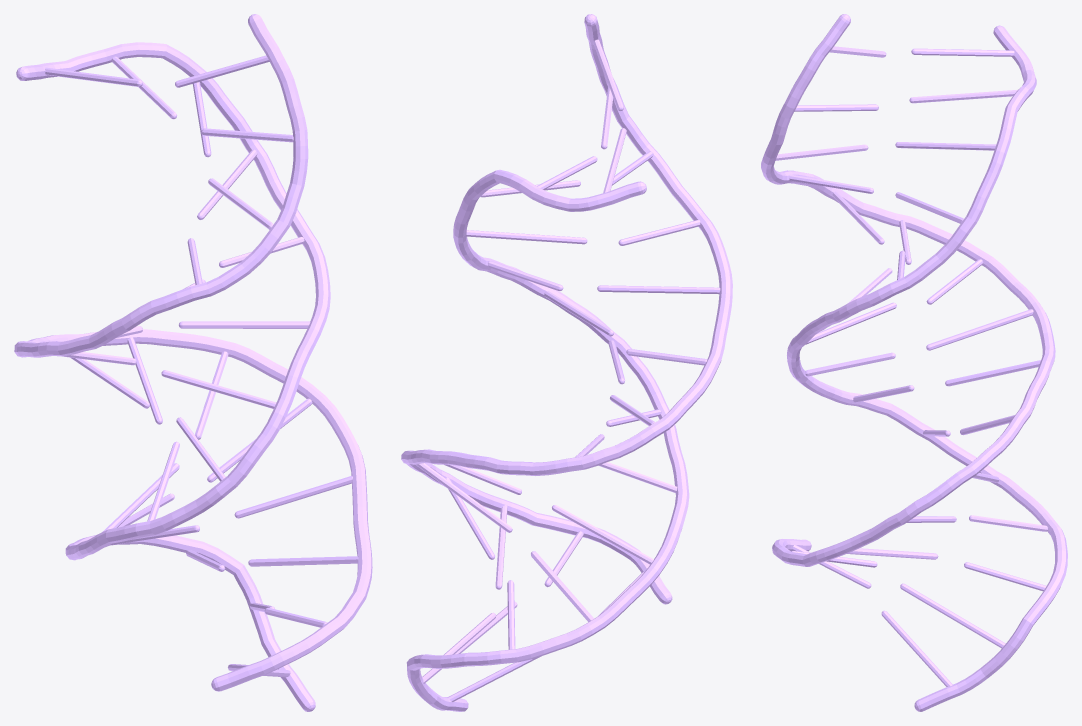
Rendered from dna.glb.
3 views of the same model, side by side, from view 1: azimuth 30°, elevation 25°; view 2: azimuth 150°, elevation 25°; view 3: azimuth 270°, elevation 25° (orthographic). The views are drawn at different scales.
Parts seen in each view (by area): view 1: dna; view 2: dna; view 3: dna.
Part boxes in pixels (box(x1,y1,x2,y2)): dna: box(14, 14, 372, 711); dna: box(401, 14, 732, 711); dna: box(761, 14, 1067, 711).
Size of the model in its own units: 2.46 by 5.54 by 2.35.
